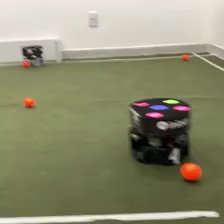ball: (178, 161, 203, 182), (22, 95, 35, 108), (181, 52, 189, 60), (22, 59, 30, 67)
goal: (1, 37, 65, 64)
robot: (126, 95, 193, 167), (19, 44, 44, 67)
